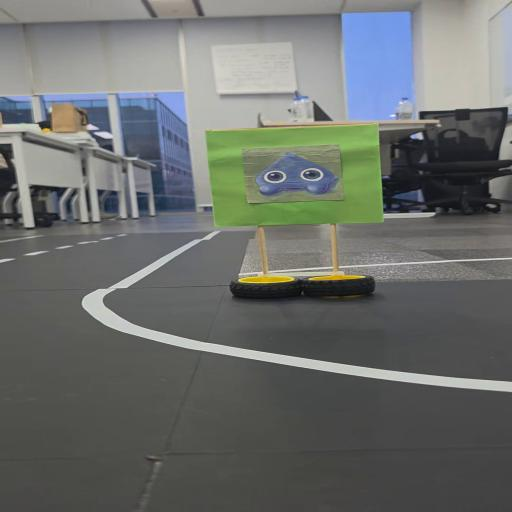Sign_B: (199, 119, 404, 303)
